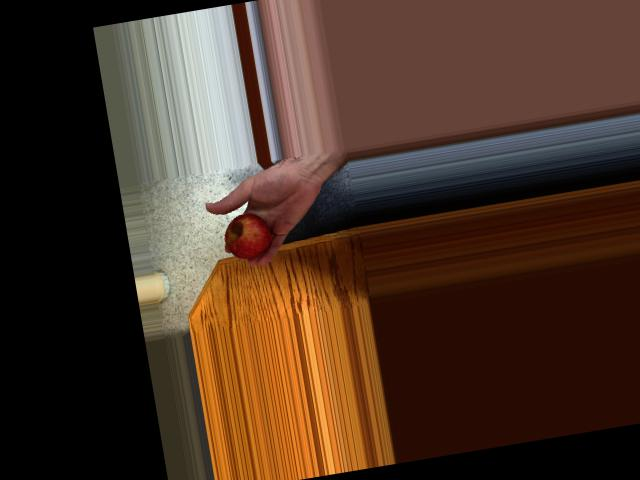apple: (220, 206, 278, 262)
